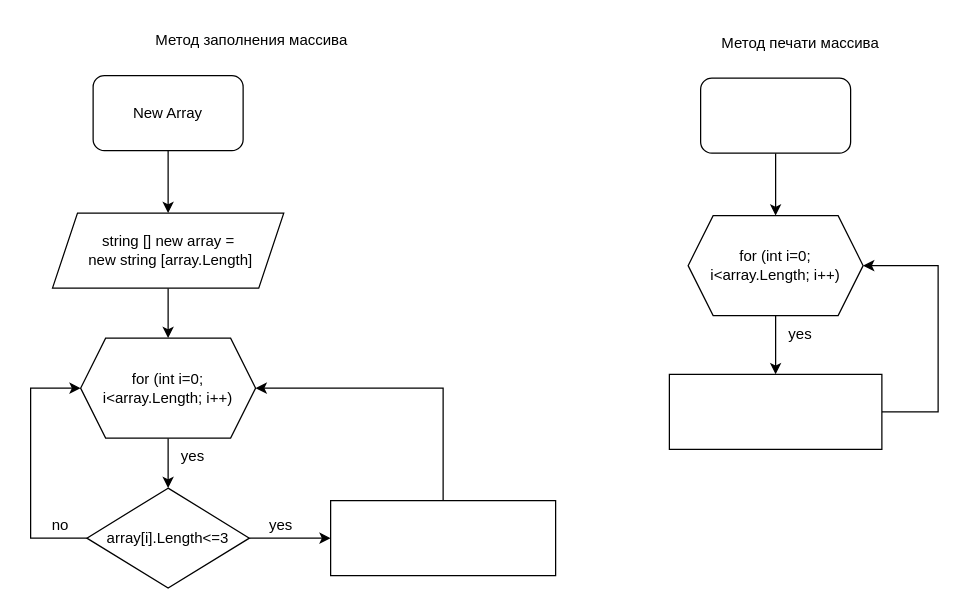
The diagram is 970 pixels wide and 610 high, and some of its shapes have lost their labels. Each missing label, with the centre of its shape:
Console.Write(Array[i] + ";"): point (775, 411)
new array[i] = array[i]; Console.Write(new array[i] + ";"): point (442, 537)
Print Array: point (775, 115)
